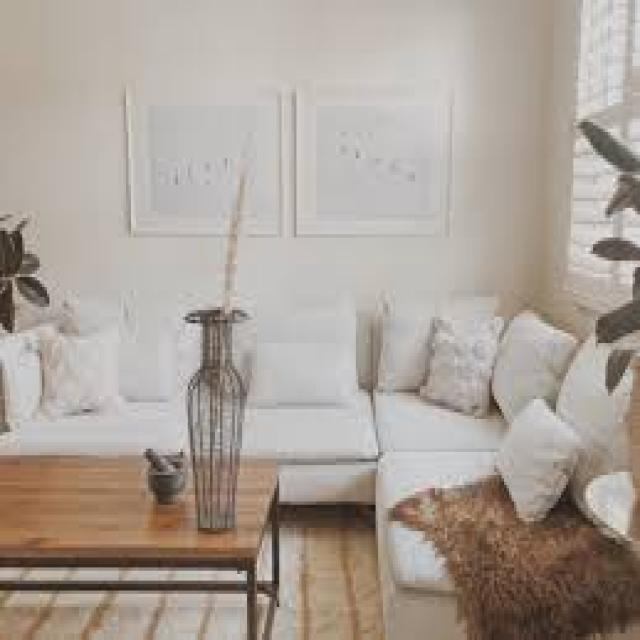Sofa: (0, 264, 560, 485), (375, 274, 640, 640)
Table: (1, 440, 293, 639)
